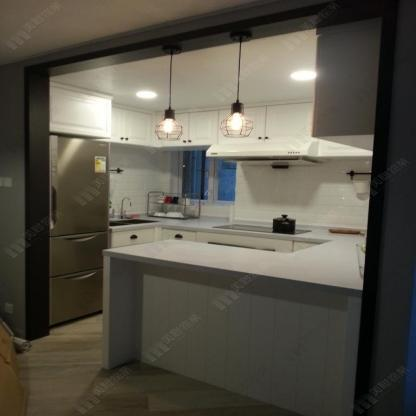Exhaust Hood: (203, 141, 332, 167)
Fridge: (50, 134, 111, 327)
Sink: (107, 218, 160, 226)
Stove: (215, 224, 313, 235)
